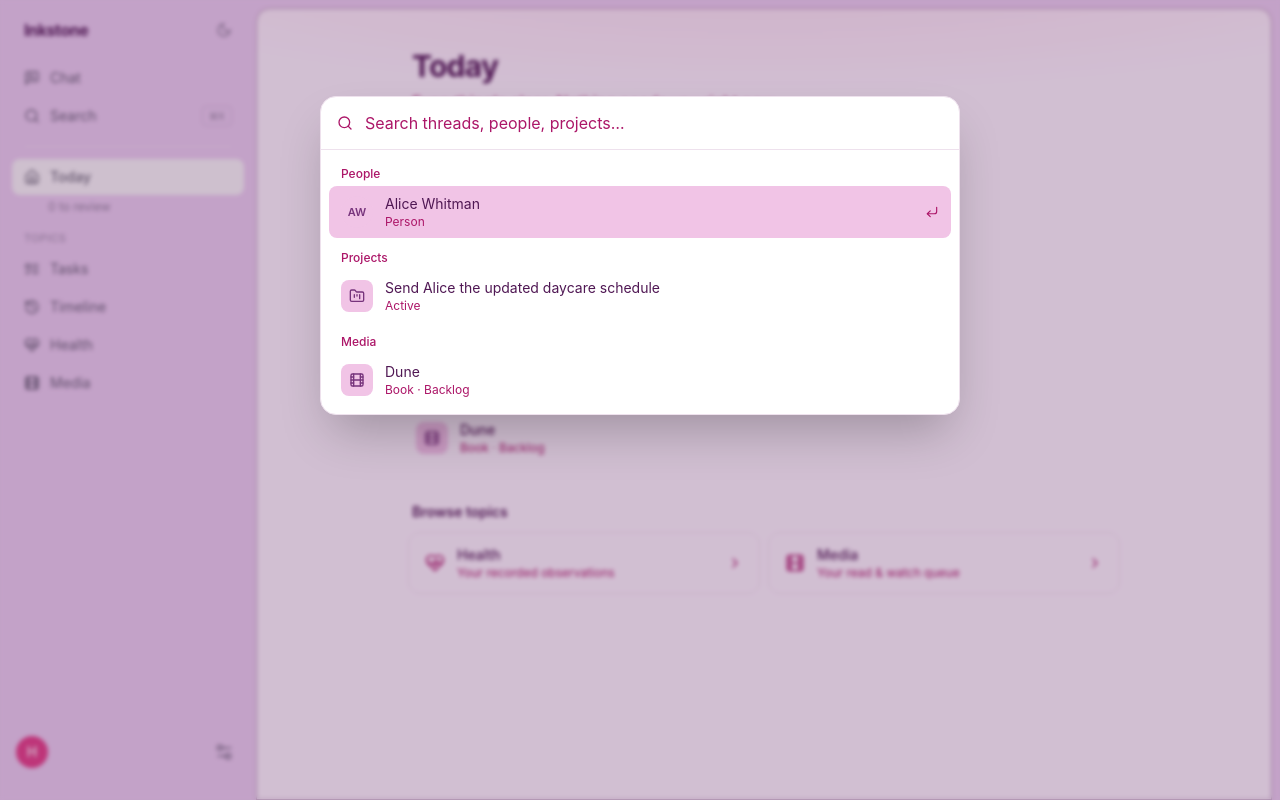
Scenario: CommandPalette (⌘K) › teaches a no-match instead of going blank
In the dropdown with placeholder "Search threads, people, projects…": [654, 123] box [365, 97, 943, 149], type "zzznotanything"
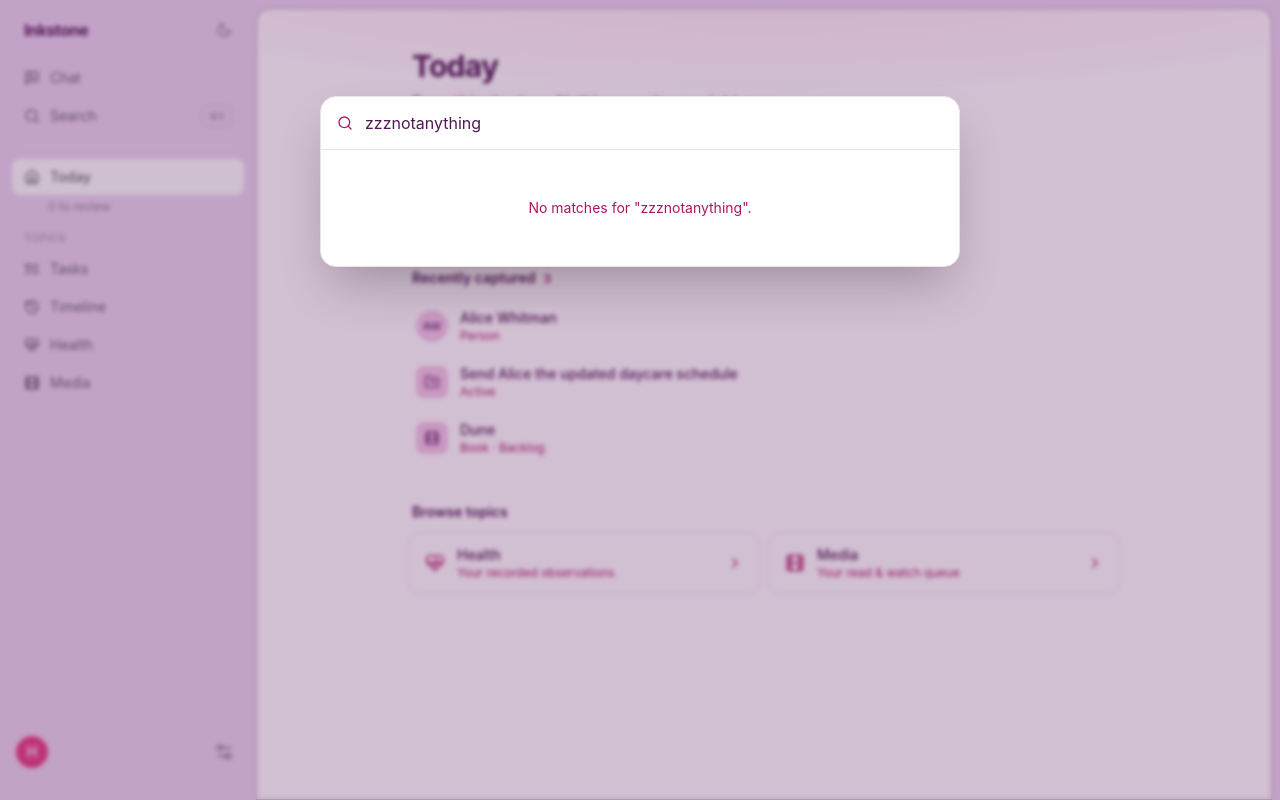
Check: the text "No matches for \"zzznotanything\"." is shown, box [528, 199, 752, 216]
